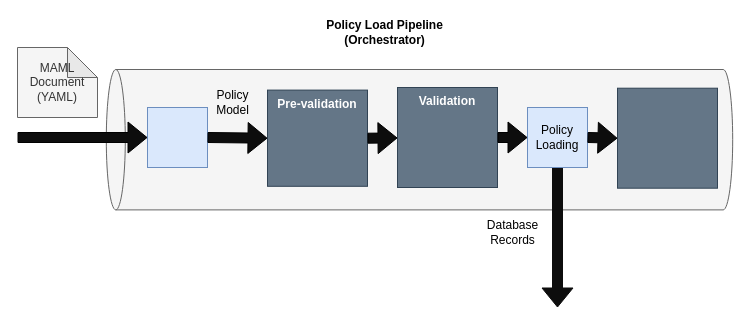
This 751x324 diagram has some shape labels left out. Here are the shapes that lost their labels. From the top down, the centre of each, then its label:
At pixel 177 137: "Policy Parsing".
At pixel 667 137: "Post-load".
